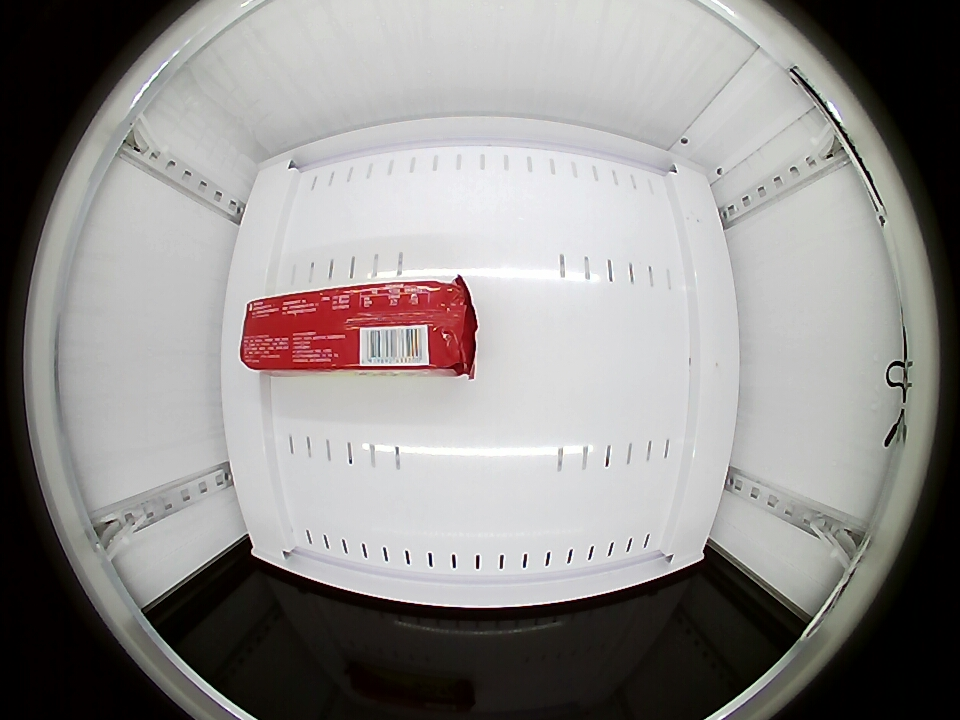3jia2: (239, 280, 475, 373)
